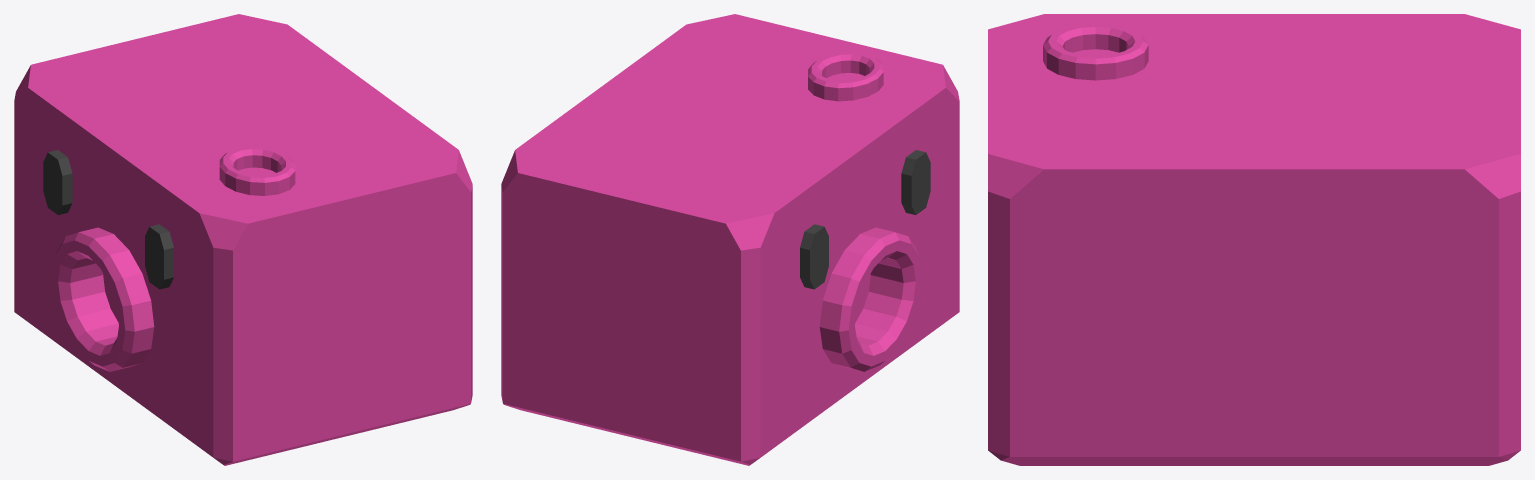
The model's file is OctopusHead.fbx.
The picture shows the model from 3 angles, left to right: view 1: azimuth 30°, elevation 25°; view 2: azimuth 150°, elevation 25°; view 3: azimuth 270°, elevation 25°; orthographic projection. The views are drawn at different scales.
Parts seen in each view (by area): view 1: OctopusHead; view 2: OctopusHead; view 3: OctopusHead.
Boxes of the visible parts, x1,y1,x2,y2 form: OctopusHead: [14, 14, 472, 465]; OctopusHead: [501, 14, 959, 465]; OctopusHead: [988, 14, 1520, 465].
Size of the model in its own units: 240 by 214 by 316.
